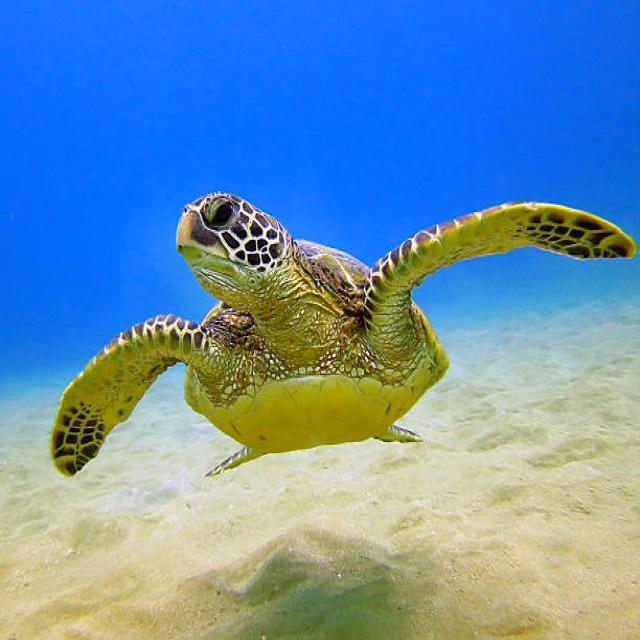sea turtle: (157, 268, 472, 485), (27, 310, 228, 543), (352, 177, 640, 333), (142, 180, 338, 326)
